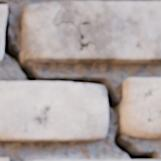brick: (22, 2, 160, 62), (0, 82, 107, 140), (122, 78, 160, 137), (0, 6, 5, 59)
broken_brick: (31, 159, 129, 160)
crack: (0, 1, 160, 160)
